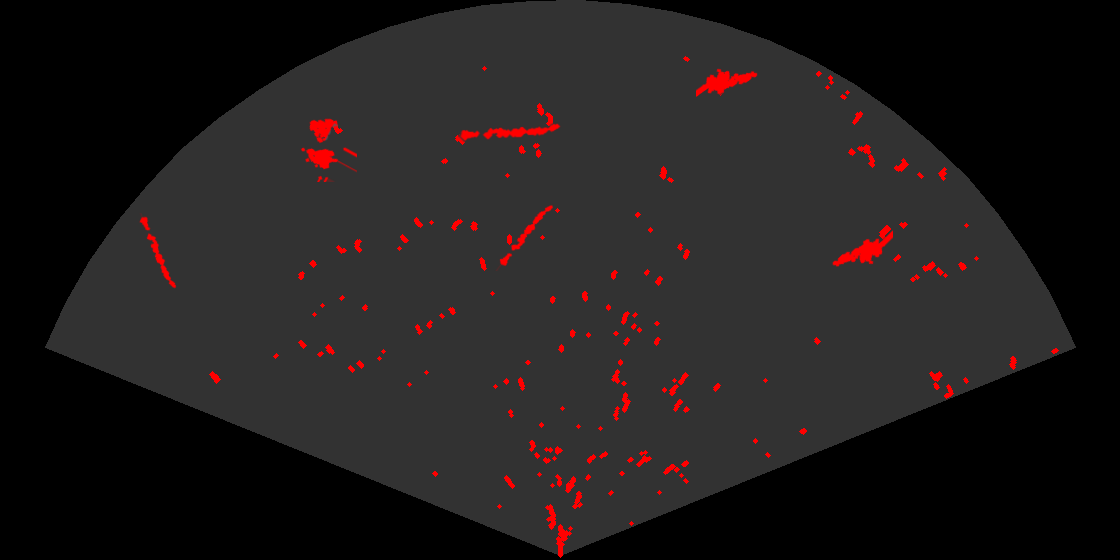cage: (299, 117, 357, 182)
chain: (494, 203, 555, 271), (138, 213, 178, 290), (458, 122, 561, 143)
frogman: (831, 229, 893, 268), (696, 67, 759, 98)
